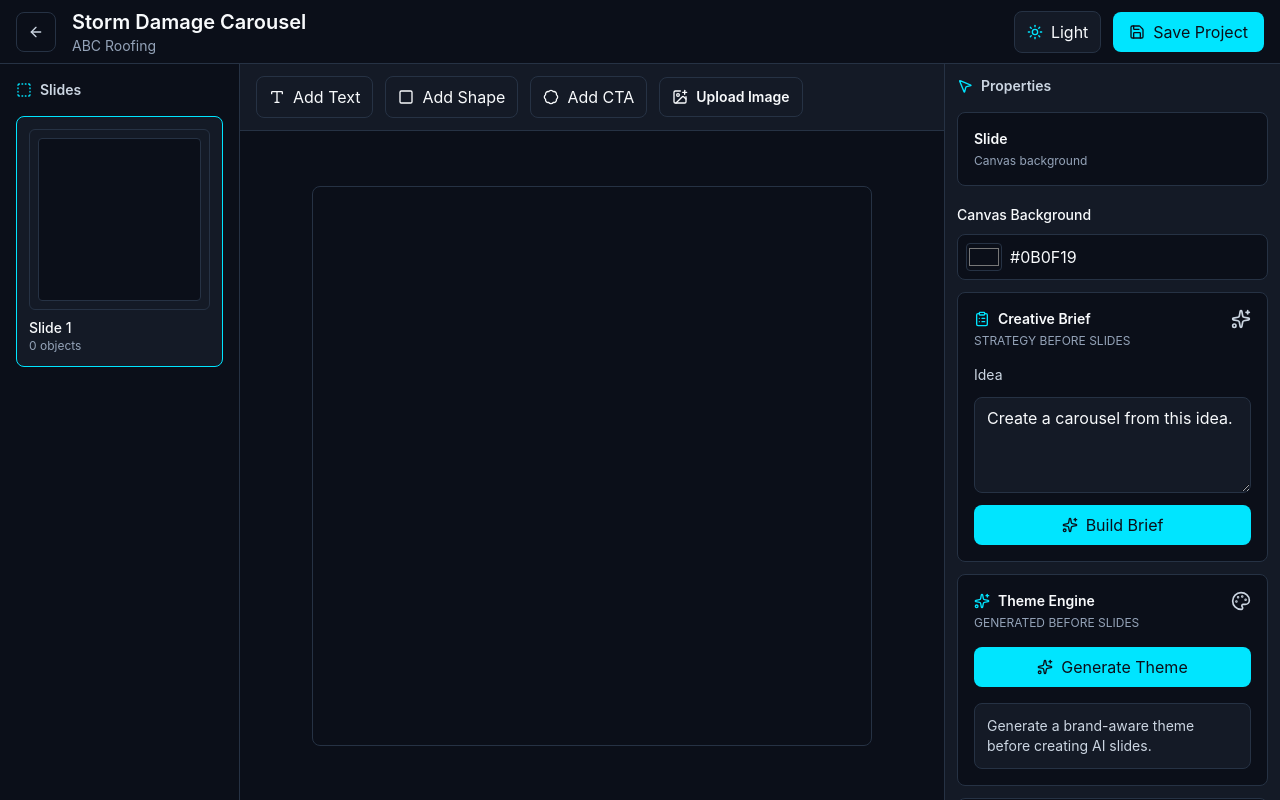
Test: ProjectEditorShell › opens an element context menu on right-click and deletes the targeted object
Click the button "Add Text" at {"x": 315, "y": 97}, box [256,76,374,118]
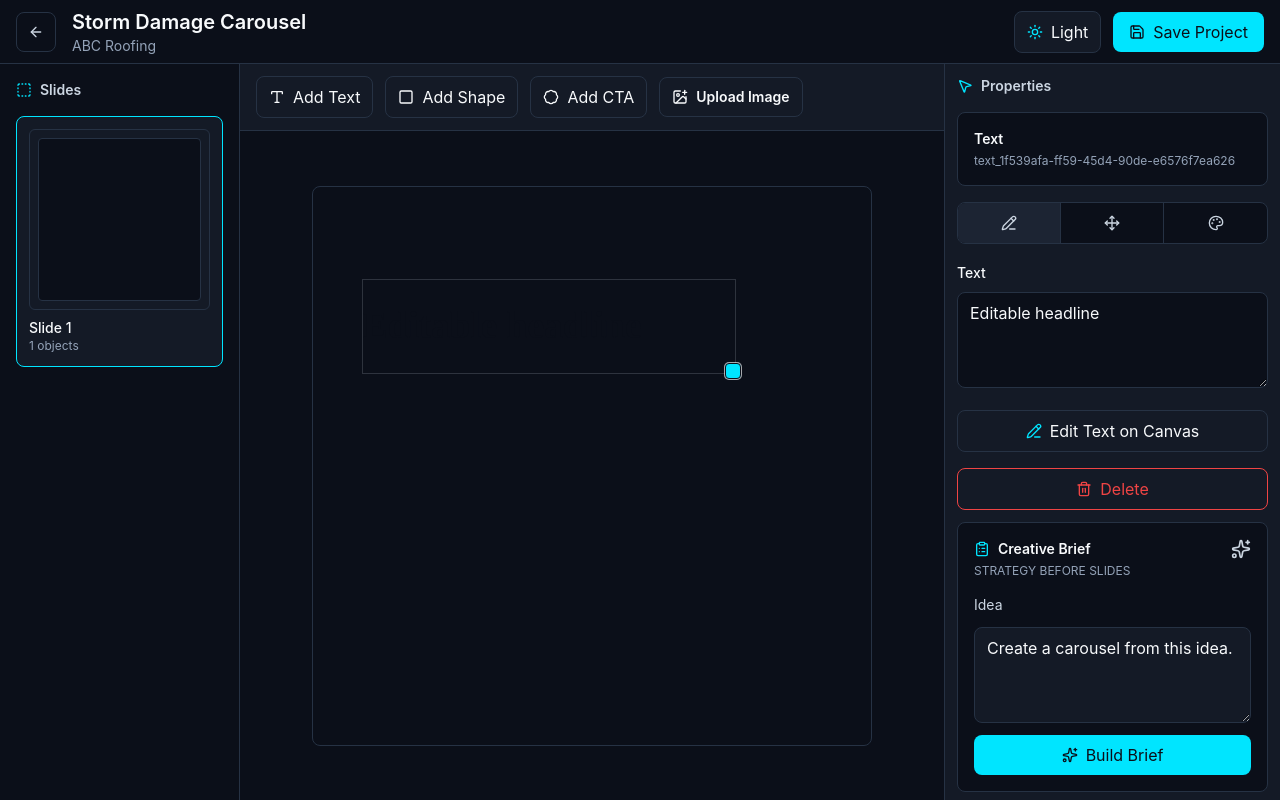
Right-click the button "Editable headline" at {"x": 549, "y": 326}, box [363,280,735,372]
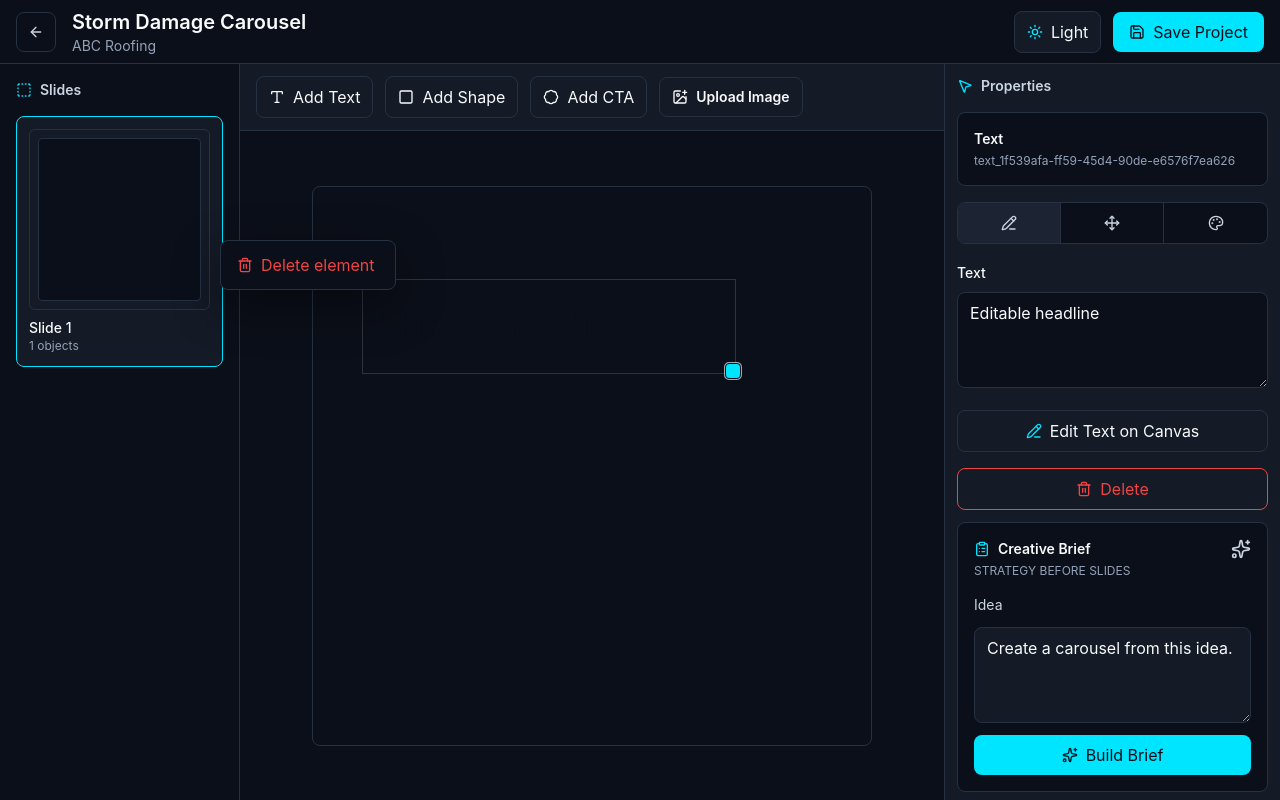
Now the menu named "Element actions" is shown, box [220,240,396,290]
Click the menu item "Delete element" at {"x": 308, "y": 265}, box [225,245,391,285]
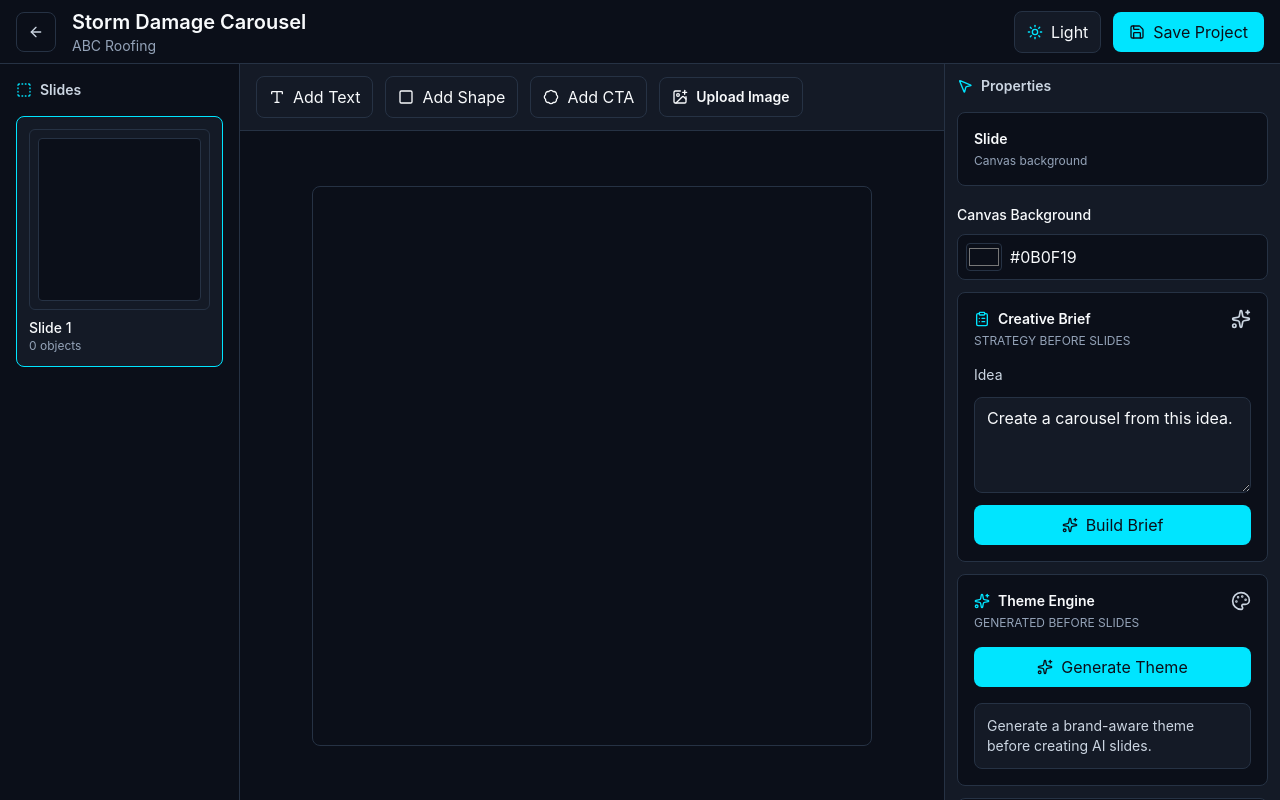
Now the button "Editable headline" is gone
